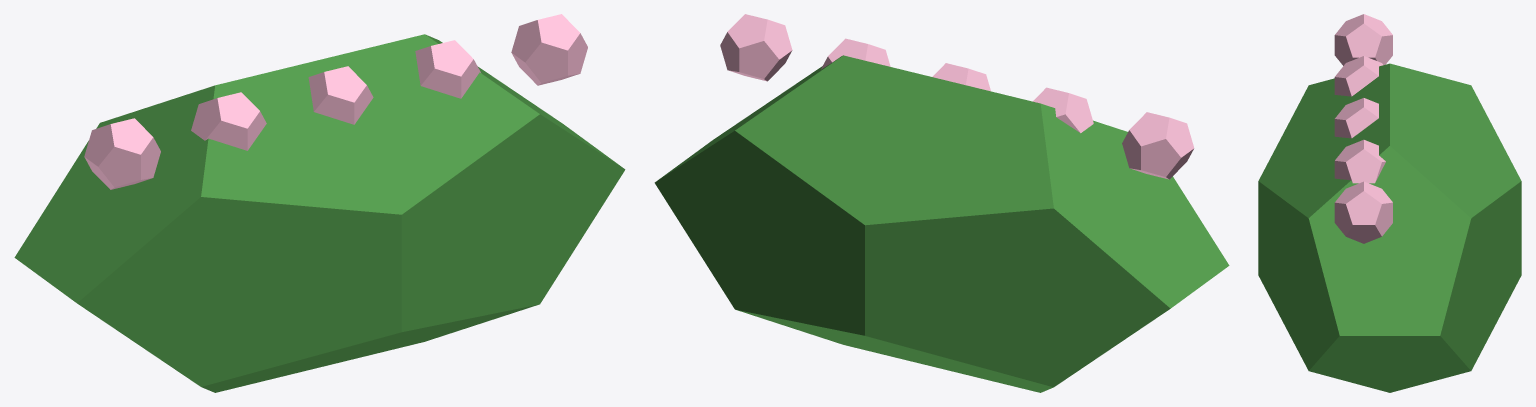
Rendered from jump-barrier.glb.
3 renders of one model, left to right at view 1: azimuth 30°, elevation 25°; view 2: azimuth 150°, elevation 25°; view 3: azimuth 270°, elevation 25°, orthographic. The views are drawn at different scales.
Parts seen in each view (by area): view 1: gardens jump-barrier; view 2: gardens jump-barrier; view 3: gardens jump-barrier.
Boxes of the visible parts, bbox=[...] form: gardens jump-barrier: bbox=[14, 14, 625, 392]; gardens jump-barrier: bbox=[654, 14, 1229, 392]; gardens jump-barrier: bbox=[1258, 14, 1521, 392].
Size of the model in its own units: 1.95 by 1.06 by 1.01.
